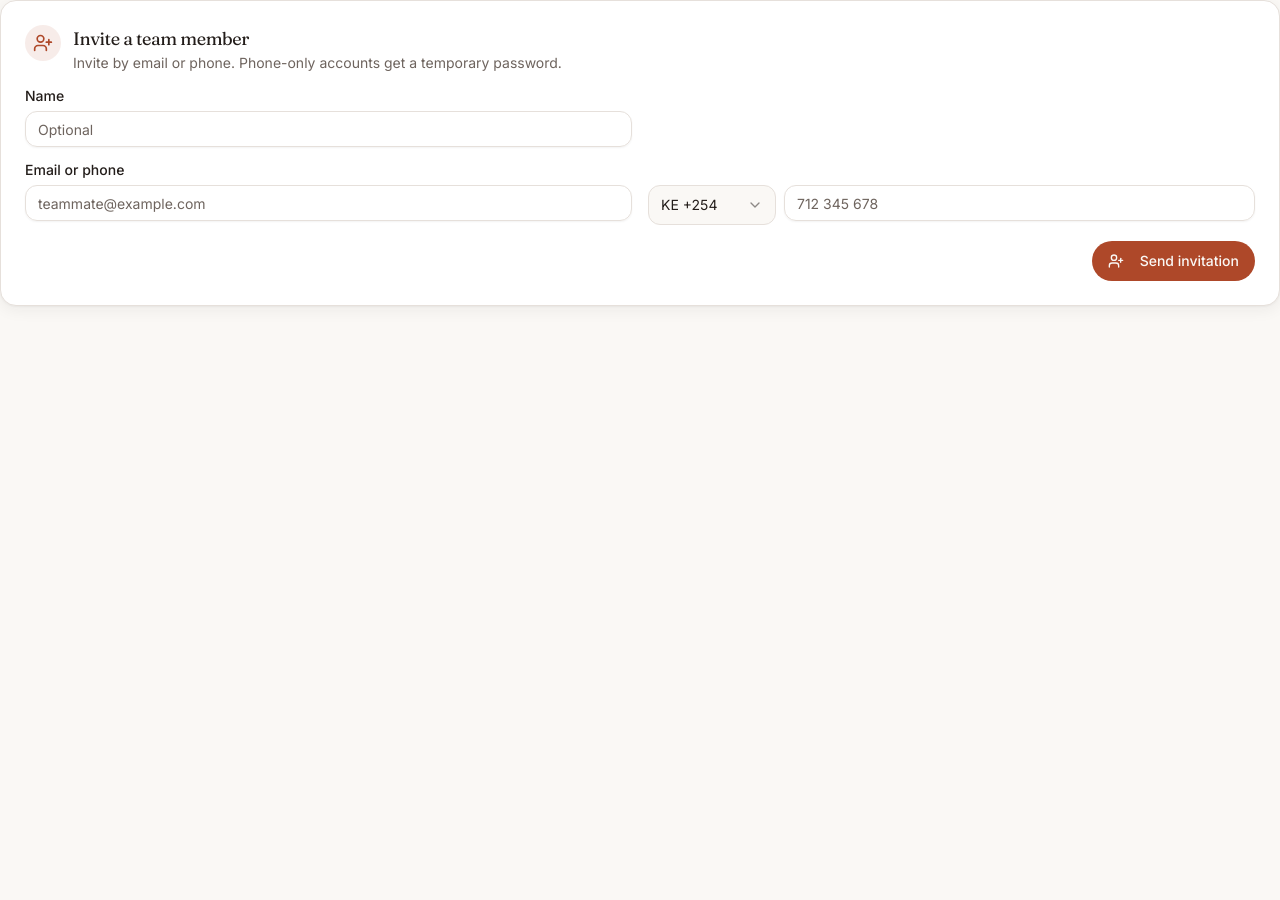
TeamInviteCard › shows a one-time password dialog for a phone-only invite
Type "712345678" into the field named "Phone". click: [1020, 203]
box: [784,185,1255,221]
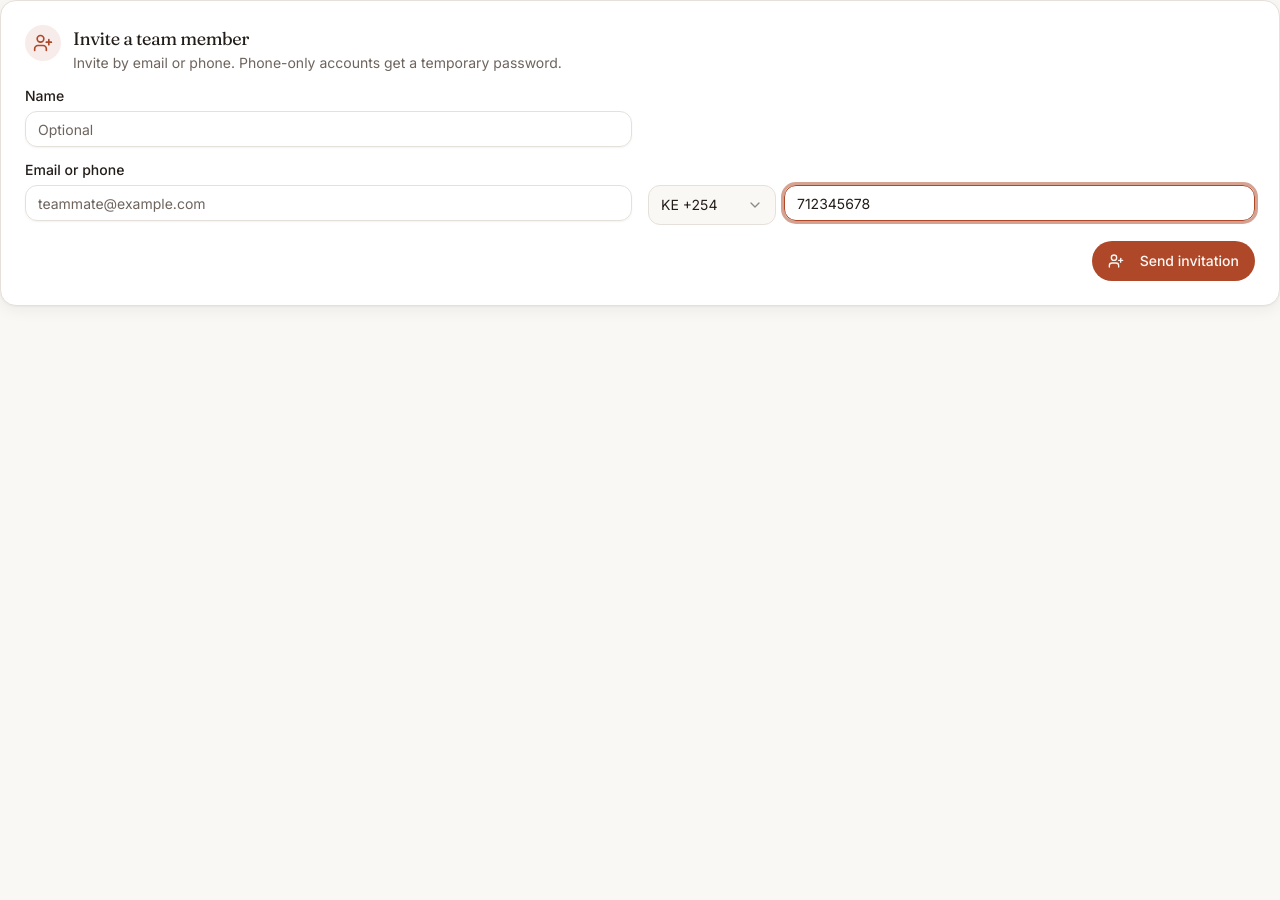
Click the button "Send invitation". click: [1173, 261]
box: [1092,241,1255,281]
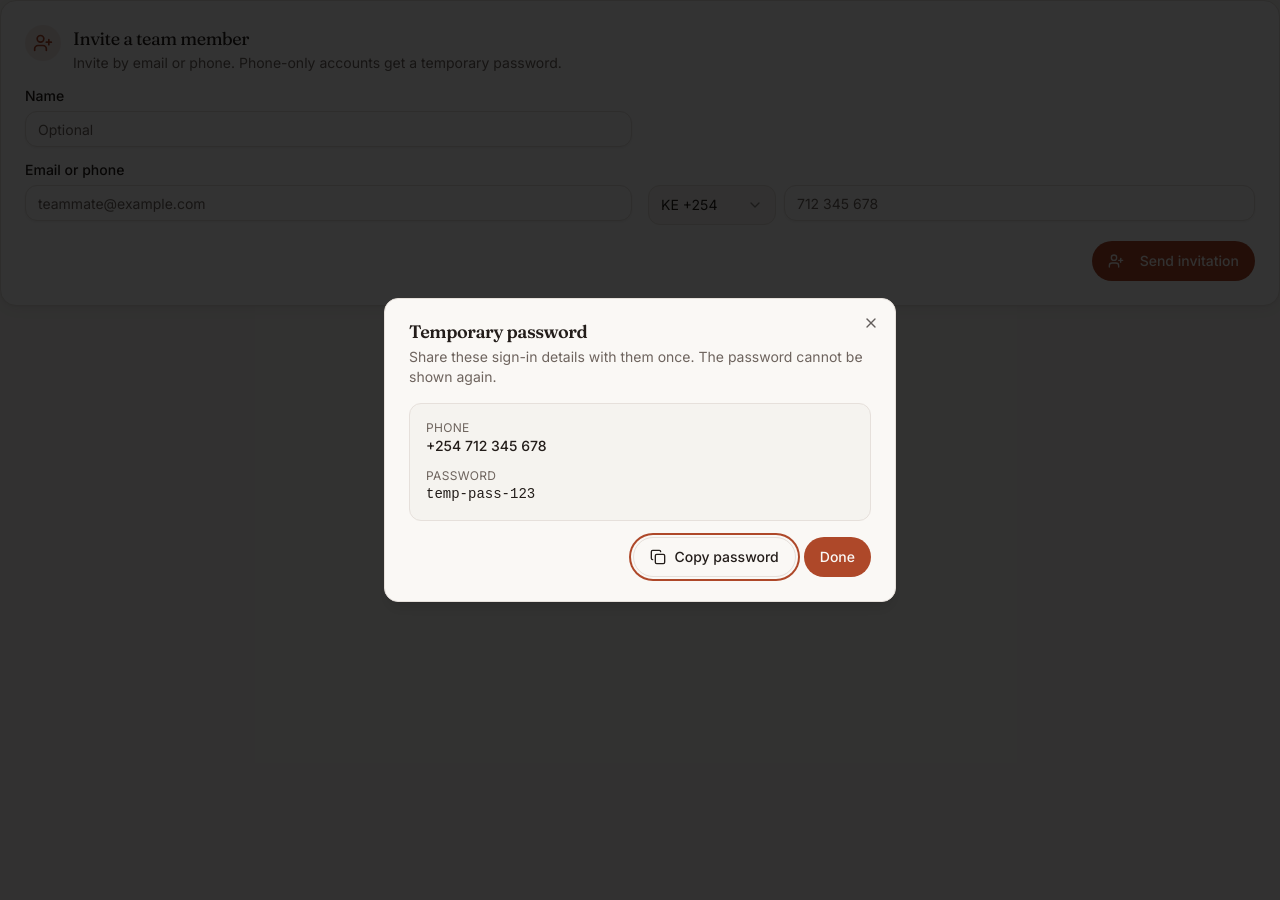
Expected: the text "temp-pass-123" is shown, [426,486,535,502]
